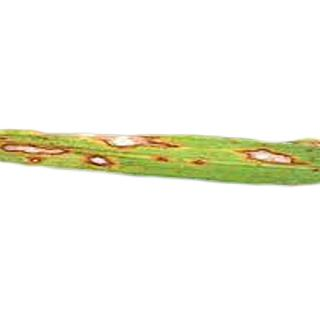Blast: (233, 141, 310, 172), (1, 140, 63, 167), (101, 131, 180, 150), (81, 152, 119, 172)
